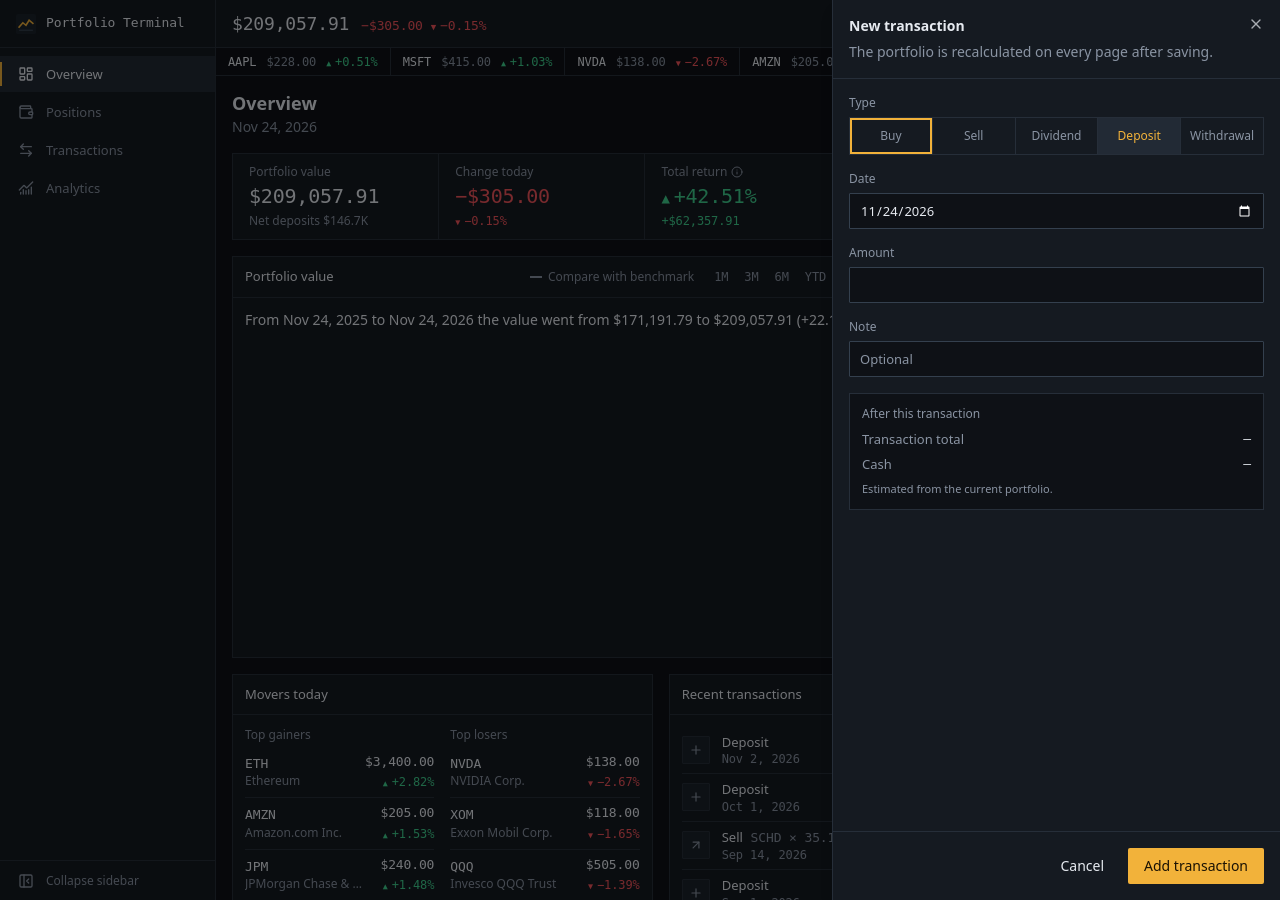
Test: TransactionForm › translates errors already shown when the language changes
Click the button "Add transaction".
click(1196, 866)  # box [1128,848,1264,884]
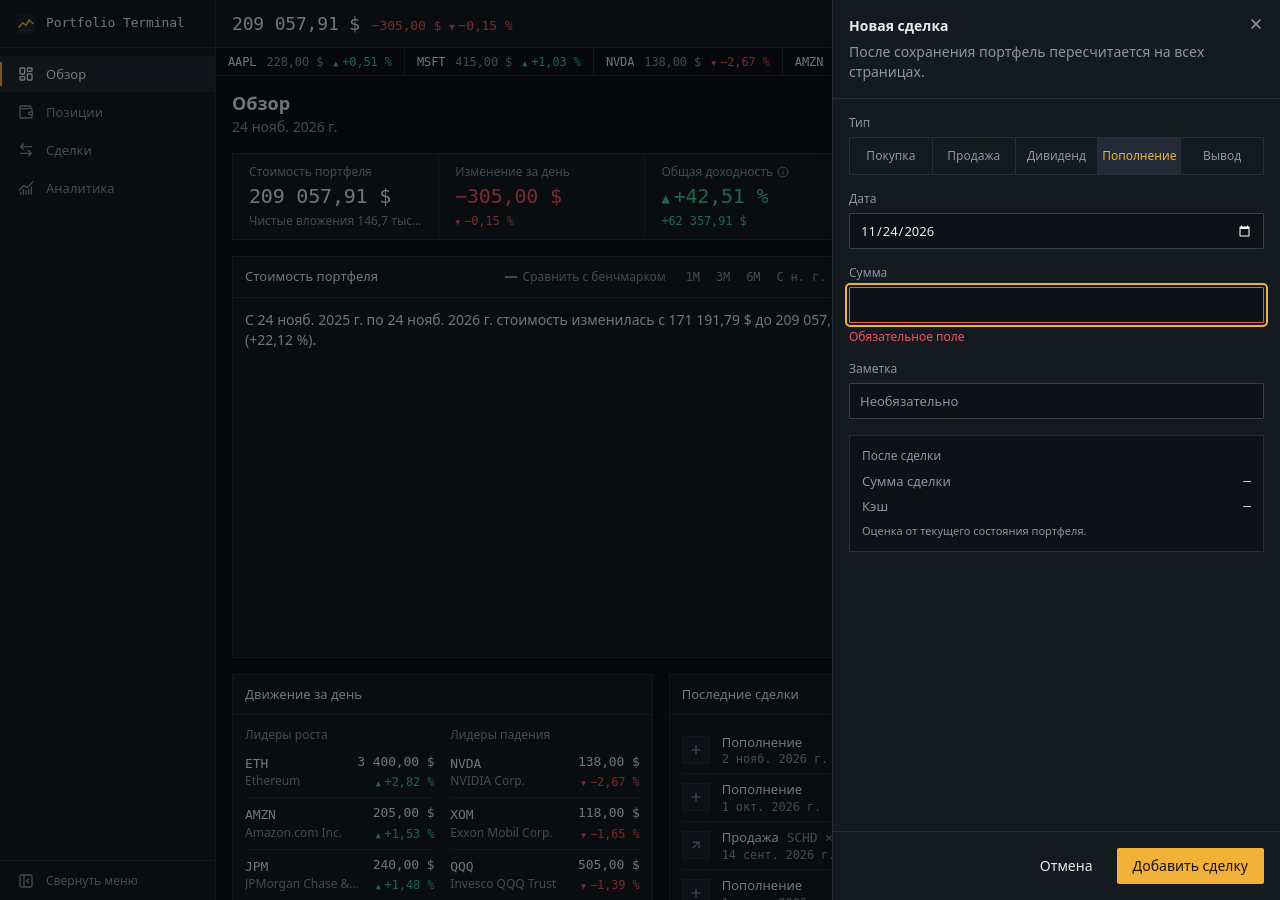
expect the text "Обязательное поле" is shown: met, box [849,328,965,345]
